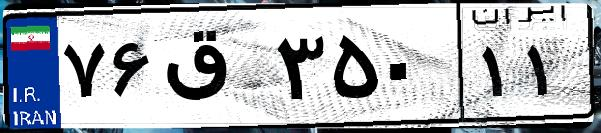0: (385, 28, 445, 110)
1: (475, 38, 525, 113), (525, 38, 570, 115)
3: (270, 28, 330, 110)
5: (330, 28, 385, 110)
6: (110, 28, 158, 98)
7: (57, 26, 110, 100)
ق: (158, 20, 270, 120)
